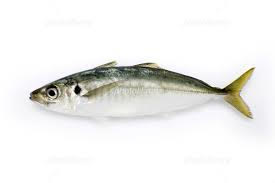azi: (27, 60, 255, 121)
